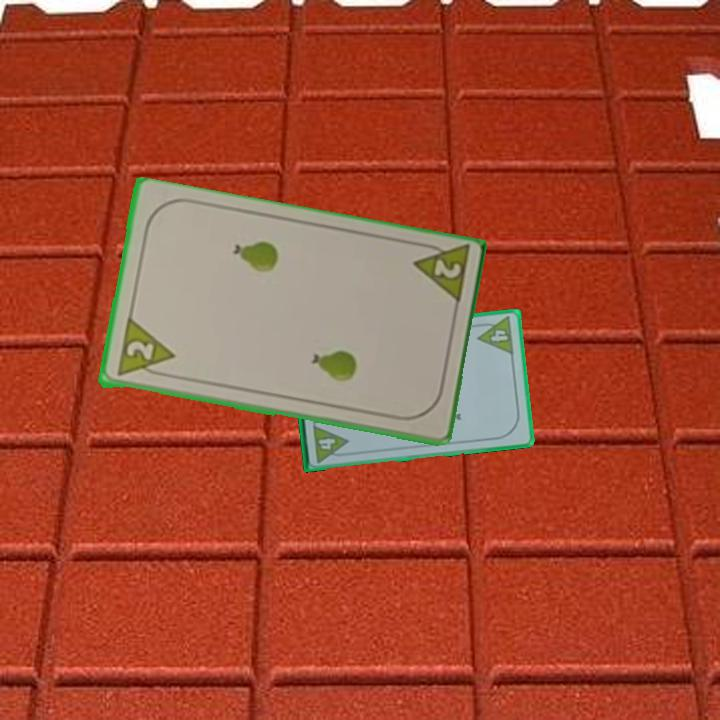2p: (408, 239, 472, 310), (122, 337, 157, 365)
4p: (473, 313, 517, 358), (309, 421, 352, 465)
